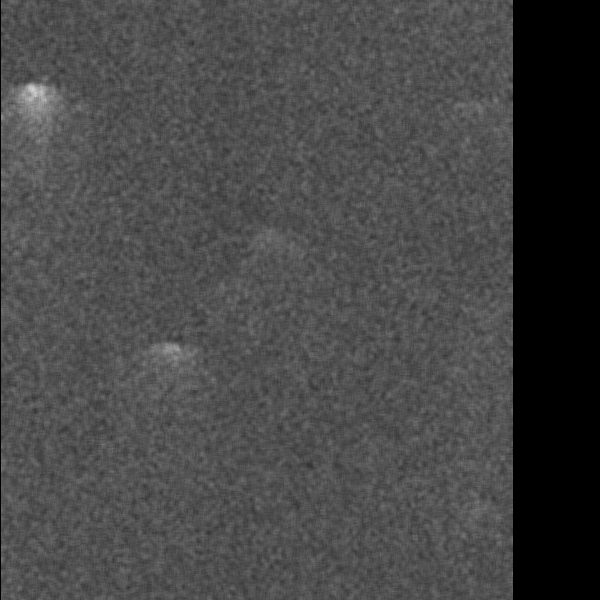spark: (50, 389, 120, 563), (165, 413, 219, 466), (173, 137, 212, 199), (162, 535, 204, 581), (177, 252, 200, 294)
